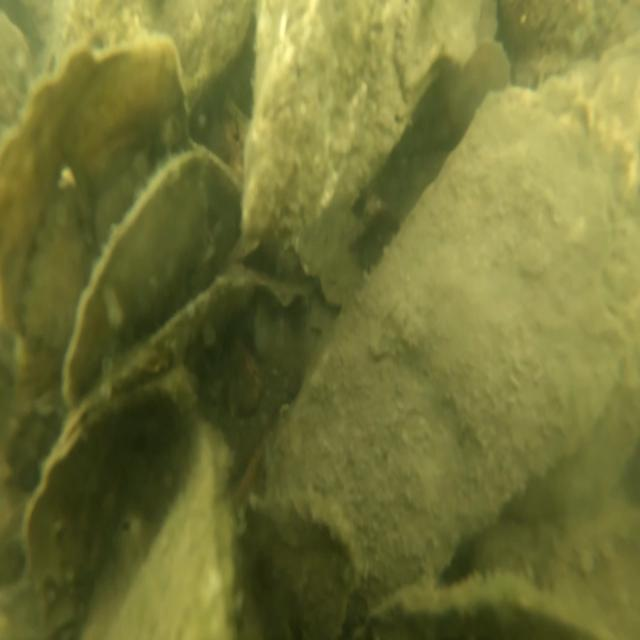Oyster-Closed: (240, 0, 484, 273)
Oyster-Indeterminate: (265, 44, 640, 639), (0, 30, 189, 355)
Oyster-Open: (29, 372, 241, 640), (63, 154, 259, 399)
